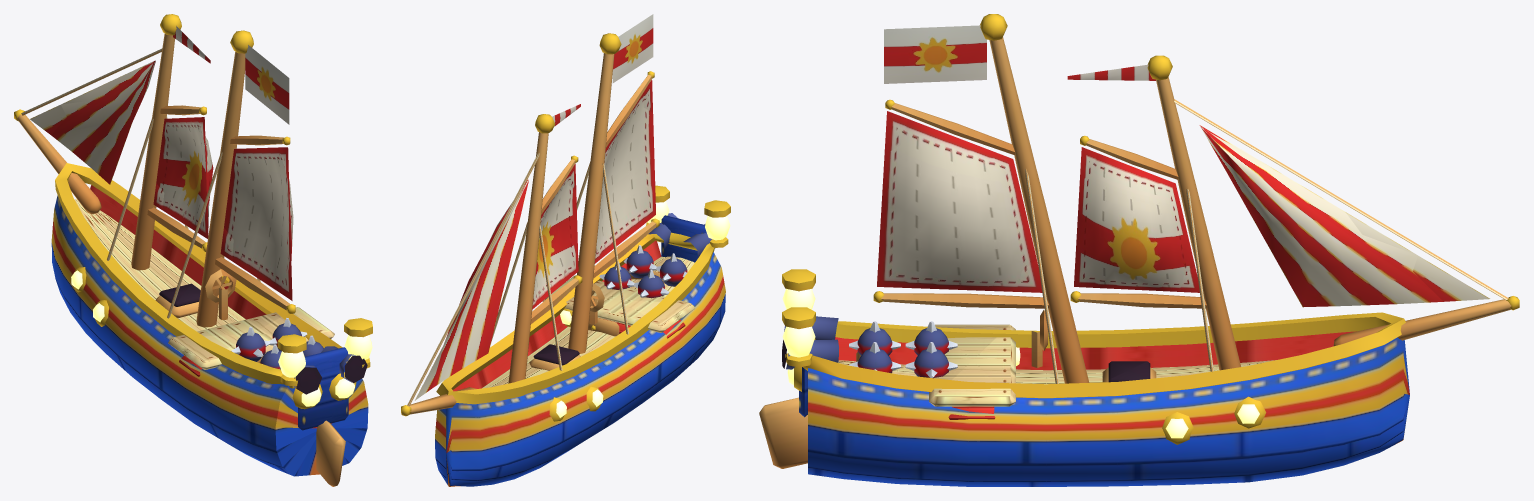
The model's file is navy_runner.glb.
3 renders of one model, left to right at view 1: azimuth 30°, elevation 25°; view 2: azimuth 150°, elevation 25°; view 3: azimuth 270°, elevation 25°, orthographic. The views are drawn at different scales.
Parts seen in each view (by area): view 1: Hull, Rigging, Sail1_0, Jib, Sail0_0, Flag, Guns0; view 2: Hull, Rigging, Sail1_0, Jib, Sail0_0, Flag, Guns0; view 3: Hull, Rigging, Sail1_0, Jib, Sail0_0, Flag, Guns0.
Boxes of the visible parts, x1,y1,x2,y2 form: Hull: [51, 163, 372, 486]; Rigging: [14, 14, 295, 327]; Sail1_0: [220, 147, 293, 300]; Jib: [30, 60, 155, 184]; Sail0_0: [153, 117, 213, 238]; Flag: [173, 26, 289, 124]; Guns0: [280, 346, 367, 394]; Hull: [435, 185, 730, 486]; Rigging: [401, 33, 659, 416]; Sail1_0: [594, 80, 655, 263]; Jib: [415, 179, 528, 400]; Sail0_0: [532, 164, 578, 309]; Flag: [552, 14, 653, 126]; Guns0: [648, 213, 715, 257]; Hull: [759, 269, 1409, 486]; Rigging: [873, 14, 1519, 383]; Sail1_0: [877, 111, 1042, 292]; Jib: [1199, 125, 1489, 307]; Sail0_0: [1074, 147, 1199, 292]; Flag: [884, 25, 1155, 83]; Guns0: [782, 316, 838, 369].
Bounding box in the file's own units: 0.8288 × 2.24 × 3.4.
8 materials, 8 textured.
